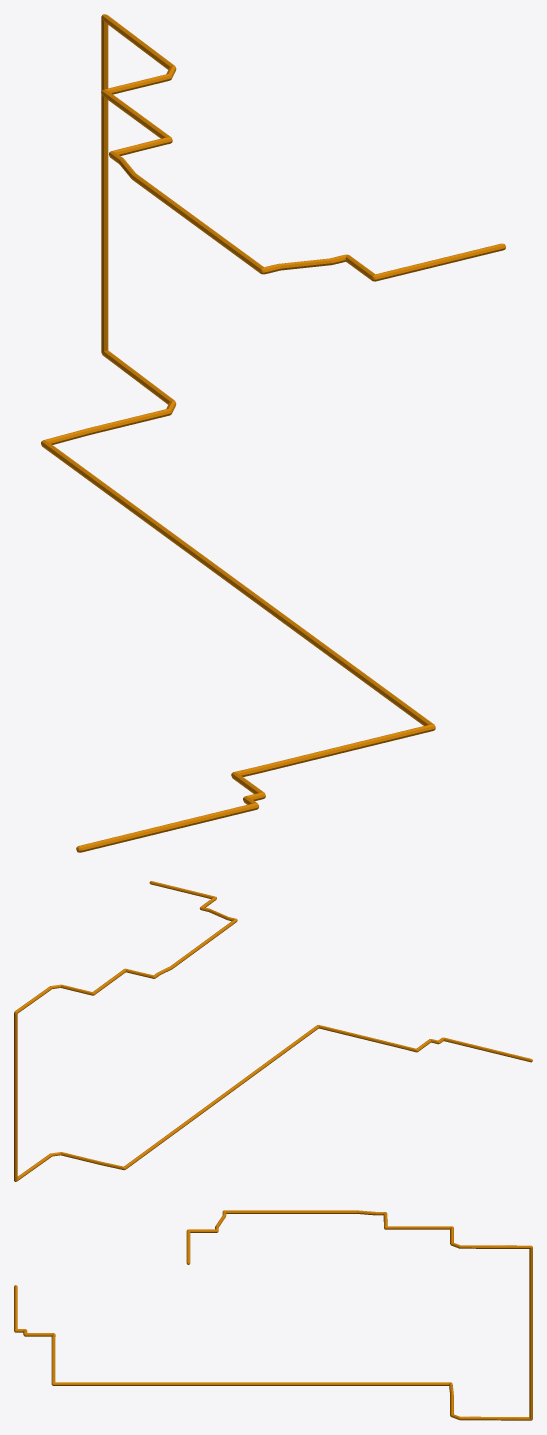
3 views of the same model, one above another, from view 1: azimuth 30°, elevation 25°; view 2: azimuth 150°, elevation 25°; view 3: azimuth 270°, elevation 25° (orthographic). The views are drawn at different scales.
Size of the model in its own units: 1868 by 1020 by 2742.
